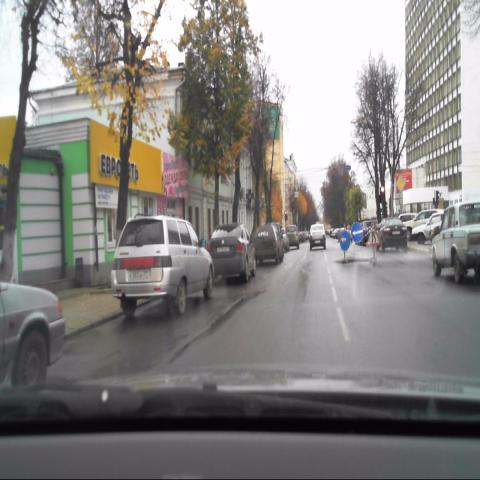4_1_2_2: (350, 221, 364, 244), (340, 232, 350, 252)
